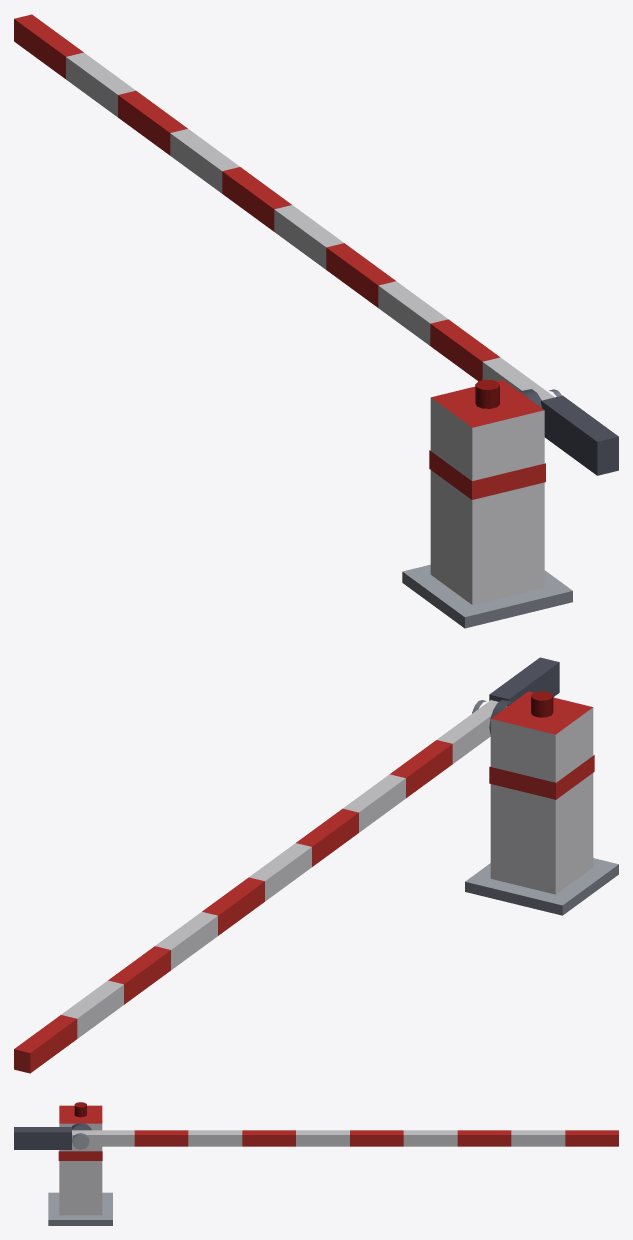
Rendered from barrier_gate.glb.
The picture shows the model from 3 angles, top to bottom: view 1: azimuth 30°, elevation 25°; view 2: azimuth 150°, elevation 25°; view 3: azimuth 270°, elevation 25°; orthographic projection. The views are drawn at different scales.
Parts seen in each view (by area): view 1: Post, Arm; view 2: Post, Arm; view 3: Arm, Post.
Boxes of the visible parts, x1,y1,x2,y2 form: Post: (402,379,572,628); Arm: (14,14,618,475); Post: (465,691,618,915); Arm: (14,657,559,1073); Arm: (14,1127,618,1149); Post: (48,1102,112,1225).
Size of the model in its own units: 0.69 by 1.1 by 5.62.
